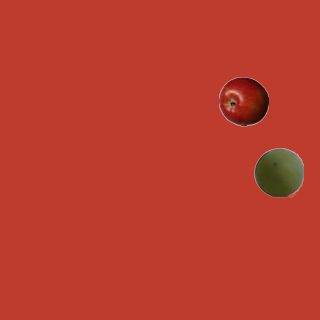Apple Braeburn: (218, 76, 268, 126)
Grape White 4: (253, 147, 303, 197)
